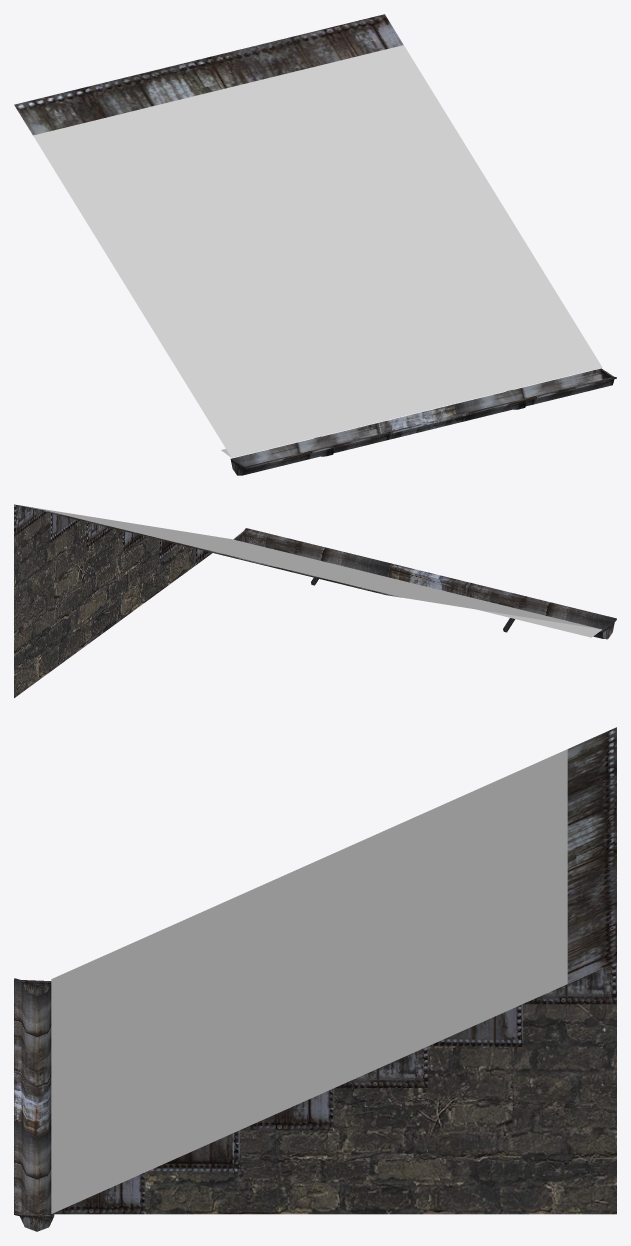
Rendered from factory_roof_01_right.DAE.
The picture shows the model from 3 angles, top to bottom: view 1: azimuth 30°, elevation 25°; view 2: azimuth 150°, elevation 25°; view 3: azimuth 270°, elevation 25°; orthographic projection. The views are drawn at different scales.
Visible parts, largest first — view 1: Box056, Box055, Object043; view 2: Box057, Box056, Object043, Object045, Box055; view 3: Box056, Box057, Object045, Box055, Object043.
Part boxes in pixels (x1=…): Box056: x1=33, y1=45, x2=602, y2=457; Box055: x1=14, y1=14, x2=403, y2=135; Object043: x1=230, y1=368, x2=616, y2=475; Box057: x1=14, y1=512, x2=195, y2=697; Box056: x1=34, y1=507, x2=601, y2=637; Object043: x1=233, y1=528, x2=616, y2=639; Object045: x1=14, y1=504, x2=212, y2=565; Box055: x1=15, y1=504, x2=401, y2=597; Box056: x1=51, y1=749, x2=567, y2=1213; Box057: x1=145, y1=1004, x2=616, y2=1214; Object045: x1=51, y1=962, x2=616, y2=1214; Box055: x1=567, y1=727, x2=616, y2=983; Object043: x1=14, y1=978, x2=54, y2=1231.
Bounding box in the file's own units: 4 × 2.17 × 4.34.
